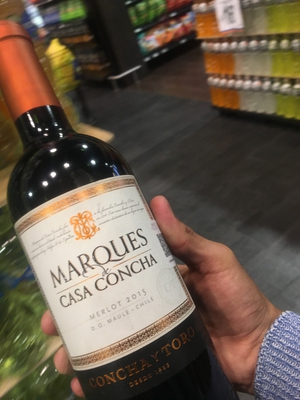marques de casa concha merlot: (1, 28, 222, 398)
